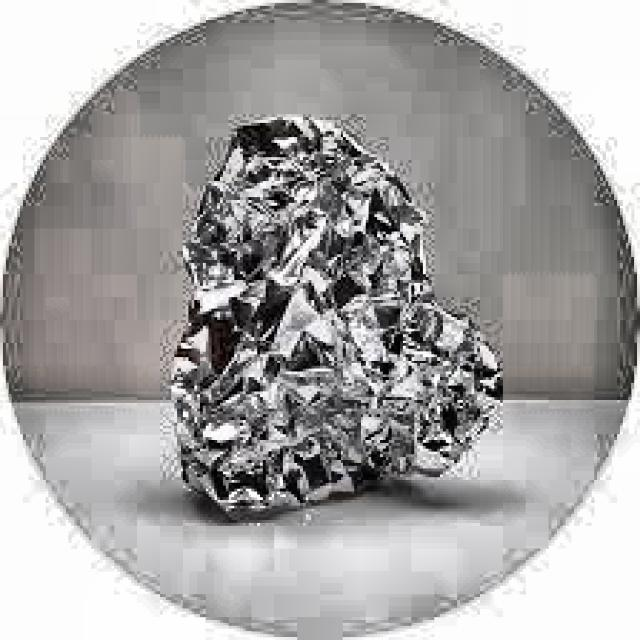Foil: (158, 85, 516, 523)
